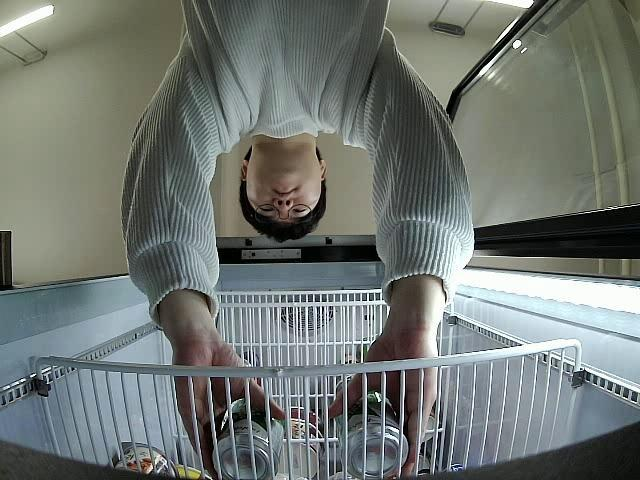12_chilsungCider: (334, 378, 410, 480), (211, 397, 284, 478)
